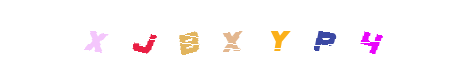4: (331, 0, 411, 80)
B: (167, 0, 247, 80)
J: (106, 0, 186, 80)
P: (284, 0, 364, 80)
X: (105, 0, 185, 80), (197, 0, 277, 80)
Y: (239, 0, 319, 80)
